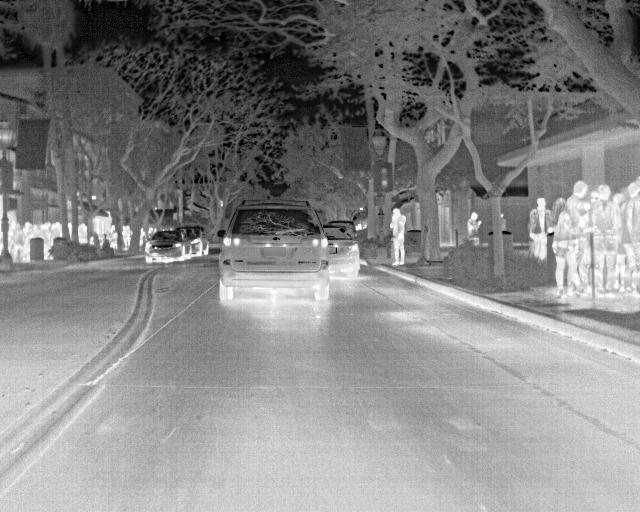bicycle: (219, 196, 330, 302), (318, 225, 364, 276), (143, 233, 190, 263), (172, 225, 204, 257)
empty: (564, 177, 595, 299), (595, 184, 617, 295), (553, 207, 576, 295), (526, 195, 553, 259), (386, 206, 407, 267), (464, 213, 480, 244)
